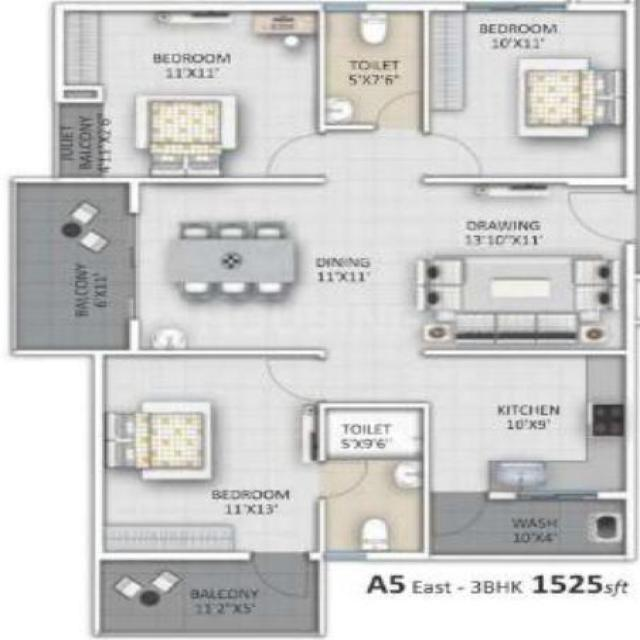Balcony-Sitout: (5, 178, 142, 358), (92, 553, 332, 640)
Bedroom: (88, 351, 325, 566), (47, 2, 320, 188), (435, 0, 640, 188)
Dining: (164, 218, 306, 304)
Kitchen: (424, 345, 640, 503)
Living: (420, 178, 635, 356)
Toilet: (317, 402, 429, 559), (321, 3, 431, 133)
Utility: (422, 490, 638, 563)
